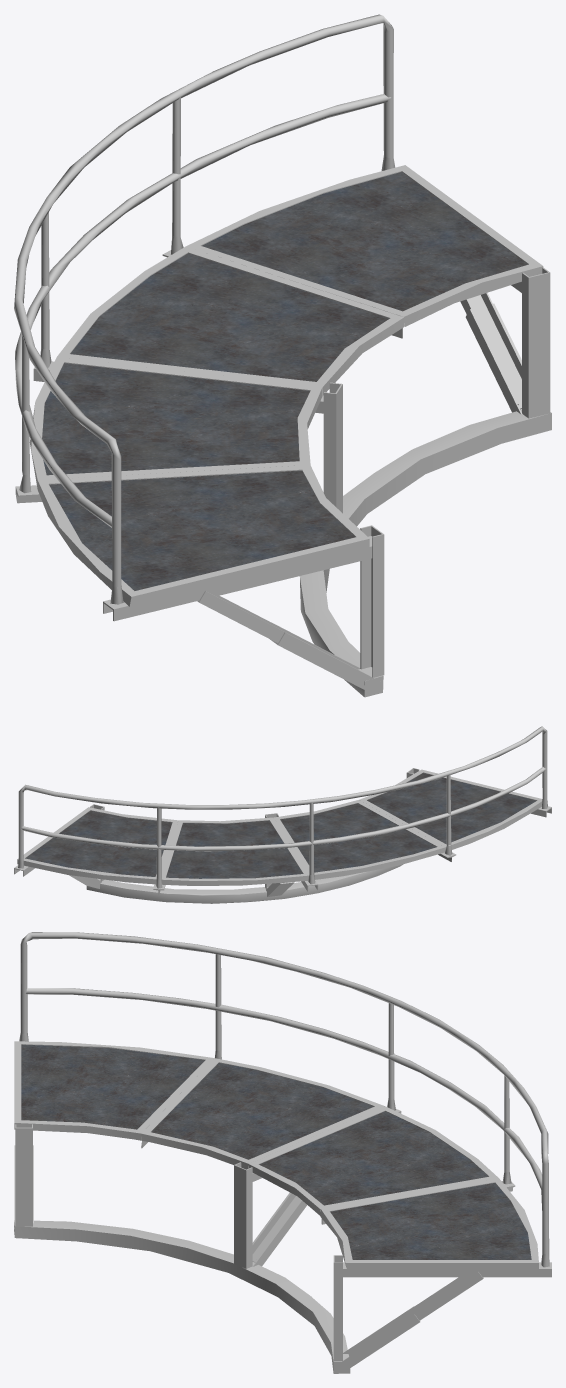
File: SM_RoundPlatform_01.fbx
3 views of the same model, one above another, from view 1: azimuth 30°, elevation 25°; view 2: azimuth 150°, elevation 25°; view 3: azimuth 270°, elevation 25° (orthographic). The views are drawn at different scales.
Parts seen in each view (by area): view 1: SM_RoundPlatform_01_LOD0; view 2: SM_RoundPlatform_01_LOD0; view 3: SM_RoundPlatform_01_LOD0.
Part boxes in pixels (left/top/right/bottom): SM_RoundPlatform_01_LOD0: left=14, top=14, right=551, bottom=697; SM_RoundPlatform_01_LOD0: left=14, top=726, right=551, bottom=903; SM_RoundPlatform_01_LOD0: left=14, top=932, right=551, bottom=1373.
Bounding box in the file's own units: 479 × 479 × 214.
